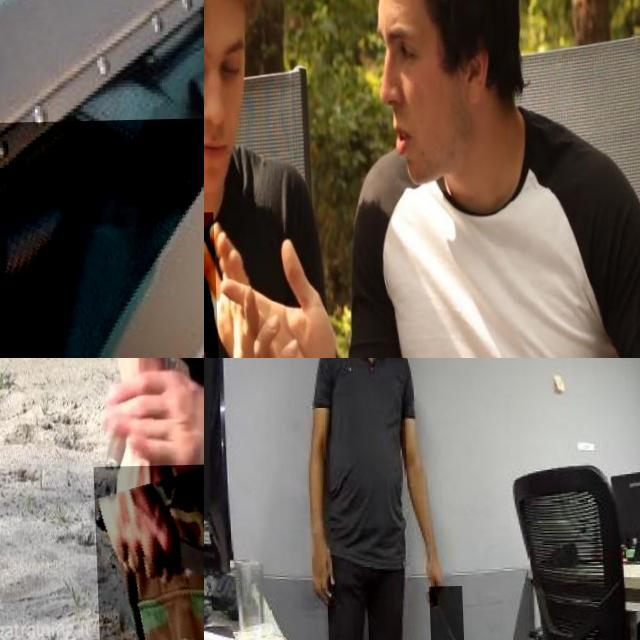-: (0, 116, 204, 358), (89, 464, 204, 640), (204, 213, 253, 358), (425, 587, 460, 640)
